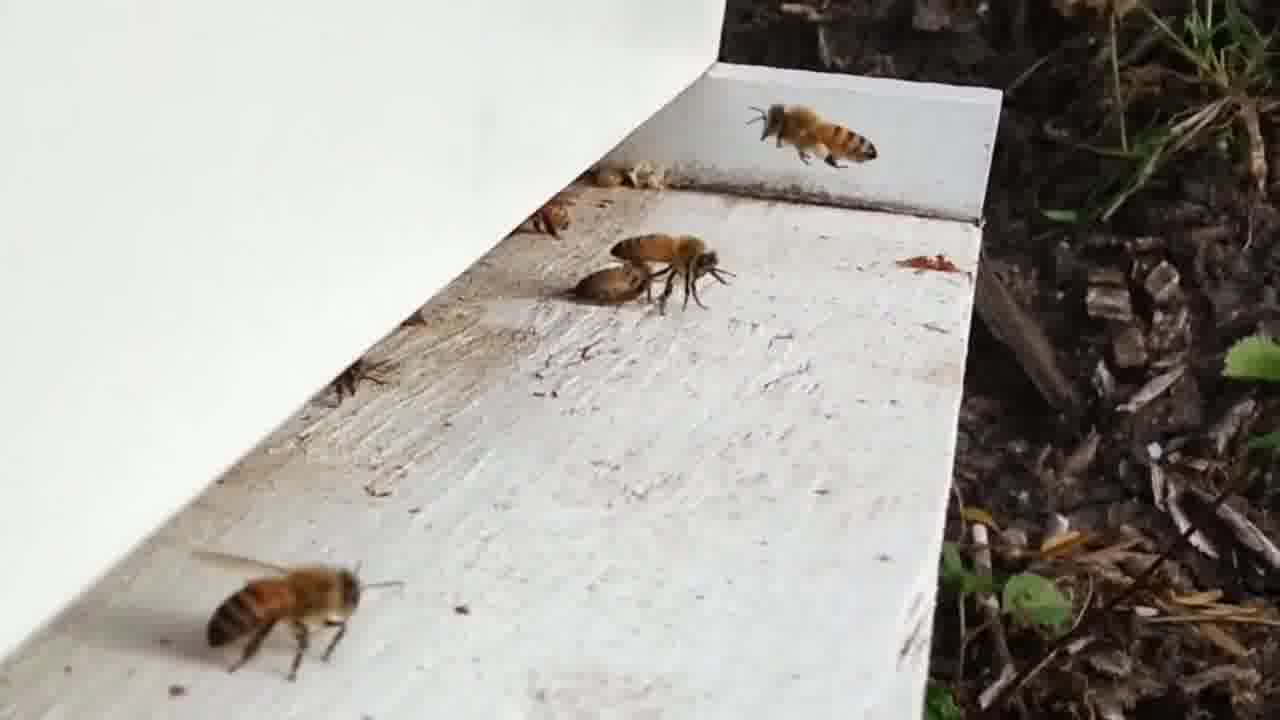pollen: (755, 99, 878, 171)
